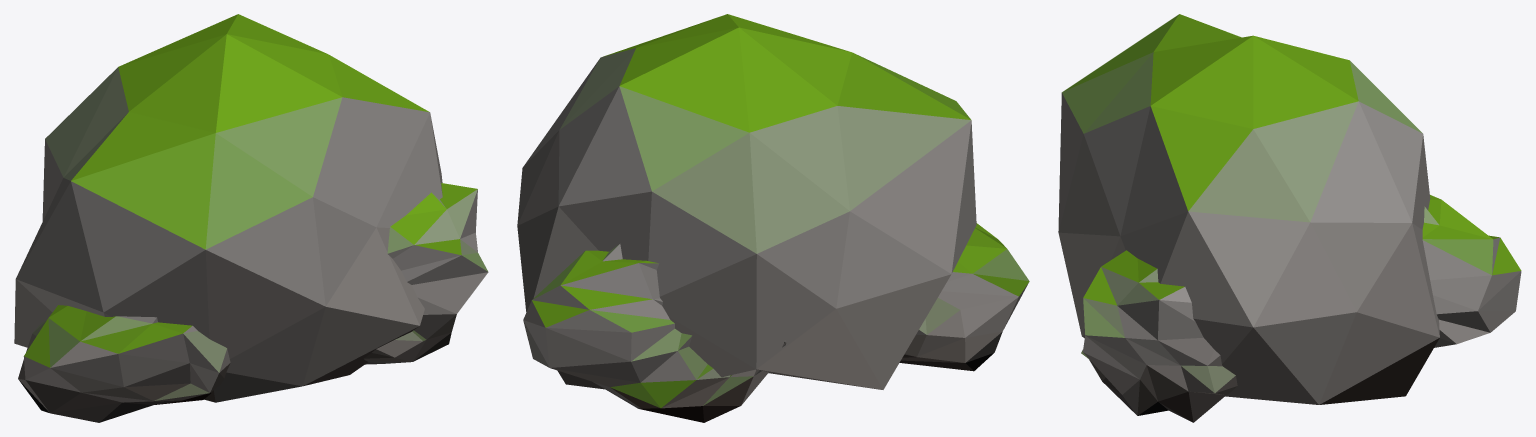
Rendered from batu_boulder_limestone_796342.glb.
3 views of the same model, side by side, from view 1: azimuth 30°, elevation 25°; view 2: azimuth 150°, elevation 25°; view 3: azimuth 270°, elevation 25° (orthographic). The views are drawn at different scales.
Visible parts, largest first — view 1: Batu_Jeram_Sungai; view 2: Batu_Jeram_Sungai; view 3: Batu_Jeram_Sungai.
Part boxes in pixels (x1=…): Batu_Jeram_Sungai: x1=14, y1=14, x2=488, y2=422; Batu_Jeram_Sungai: x1=517, y1=14, x2=1029, y2=422; Batu_Jeram_Sungai: x1=1058, y1=14, x2=1521, y2=422.
Size of the model in its own units: 6.69 by 4.51 by 5.99.
